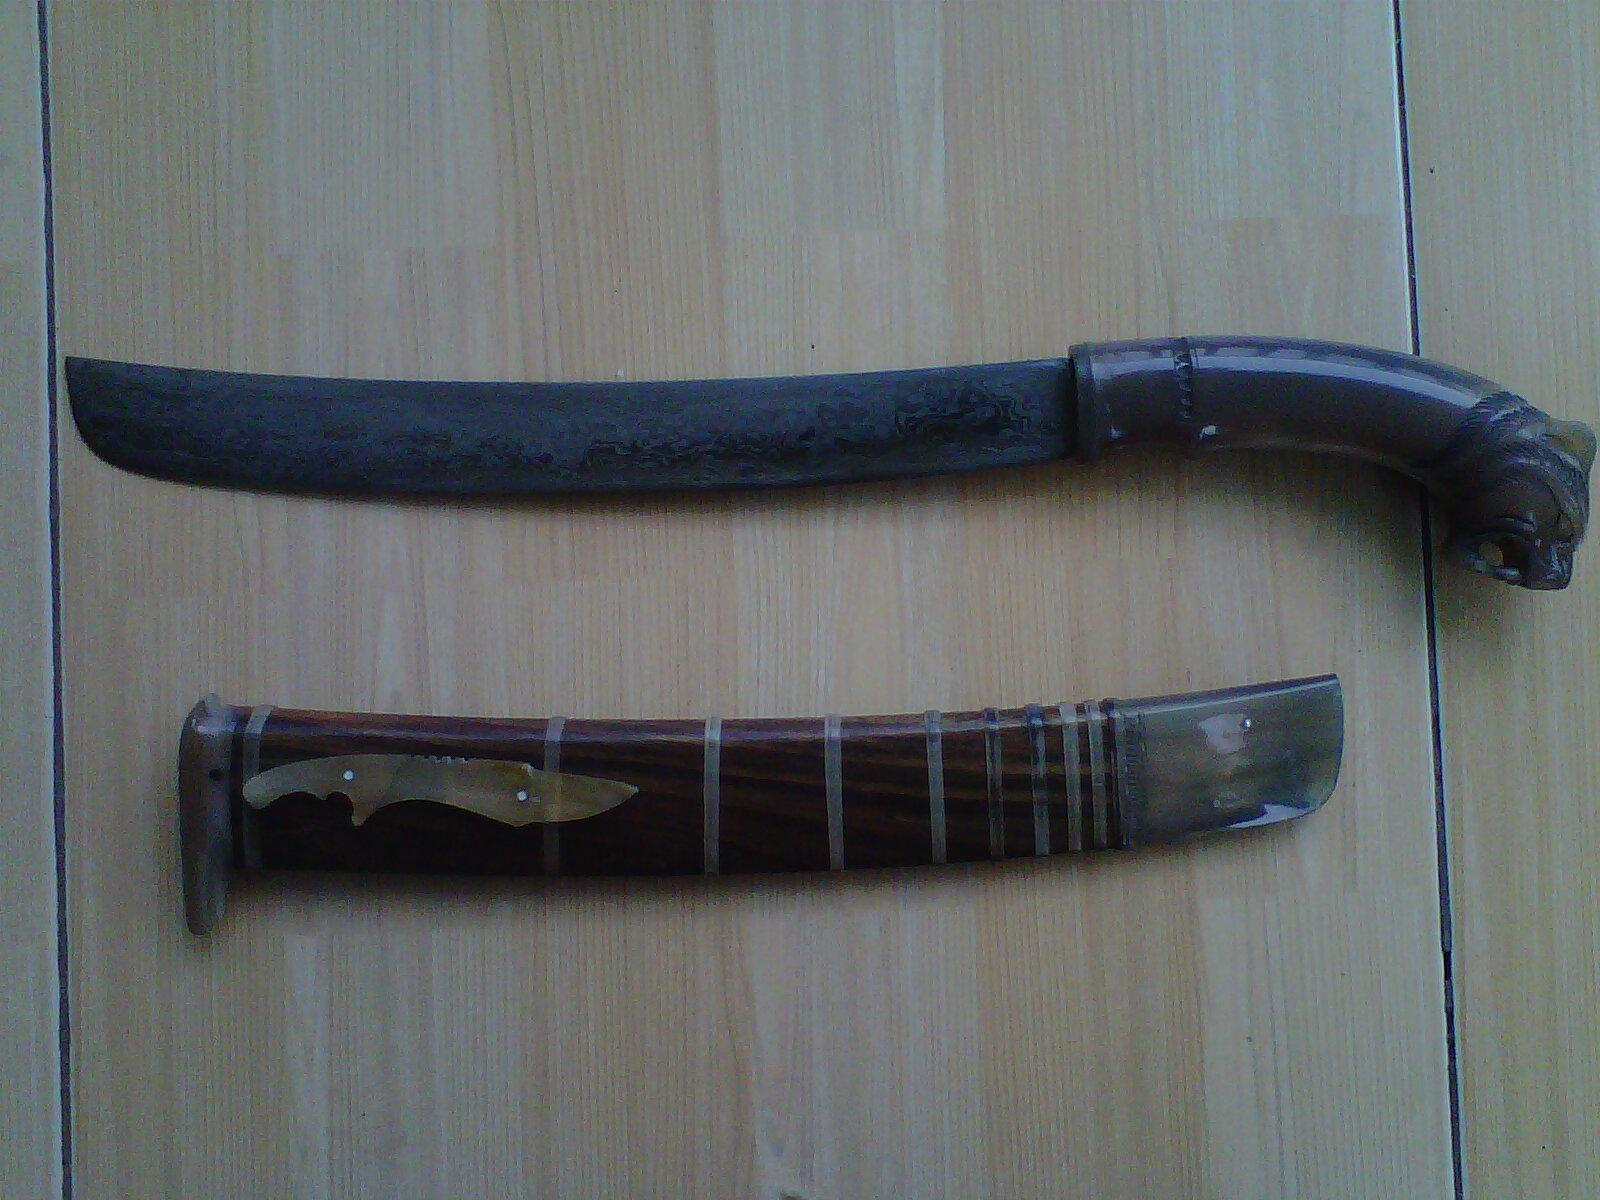espada: (48, 337, 1569, 571)
